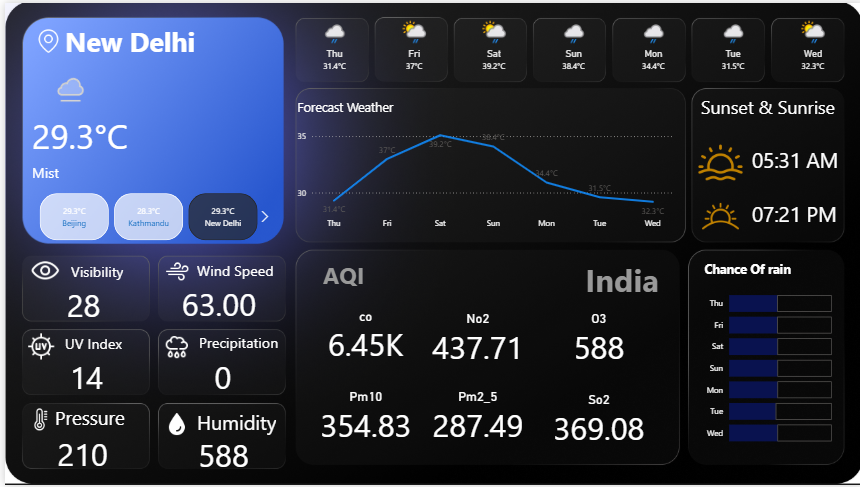

Layout of this report page (visuals, bound fields, positions):
{"tool":"powerbi","page":{"name":"Page 1","canvas":[1280,720],"ordinal":0},"visuals":[{"type":"advancedSlicerVisual","fields":{"Values":["location.location.name"]},"box":[26.9,278.8,376.3,80.6],"z":0},{"type":"shape","box":[40.3,162.9,376.3,149.5],"z":1000},{"type":"shape","box":[40.3,238.5,188.1,73.9],"z":2000},{"type":"shape","box":[89.6,30.4,237.1,54.9],"z":3000},{"type":"image","box":[23.1,34.7,85.3,44.8],"z":4000},{"type":"cardVisual","fields":{"Data":["Min(Current.current.condition.icon)"]},"box":[26.9,55.4,124.3,144.5],"z":5000},{"type":"image","box":[0,370.4,120.7,57.9],"z":6000},{"type":"shape","box":[98.3,386,188,73.7],"z":7000},{"type":"image","box":[208.4,377.1,95.9,46.3],"z":8000},{"type":"shape","box":[286.1,385.3,188.5,74.4],"z":9000},{"type":"image","box":[0,487.2,108.4,52],"z":10000},{"type":"shape","box":[89.6,494.5,188,36.1],"z":11000},{"type":"image","box":[208.4,487.9,95.9,51.3],"z":12000},{"type":"shape","box":[289.2,493,180.7,40.5],"z":13000},{"type":"image","box":[8.3,600.3,89.3,43],"z":14000},{"type":"shape","box":[74.4,600.3,188.5,41.3],"z":15000},{"type":"image","box":[200.1,605.3,112.5,44.7],"z":16000},{"type":"shape","box":[286.1,605.3,188.5,74.4],"z":17000},{"type":"card","fields":{"Values":["Sum(Current.current.humidity)"]},"box":[249.7,640,153.8,64.5],"z":18000},{"type":"card","fields":{"Values":["Sum(Current.current.vis_km)"]},"box":[39.7,416.7,153.8,64.5],"z":19000},{"type":"card","fields":{"Values":["Sum(Current.current.wind_kph)"]},"box":[236.5,416.7,167,62.8],"z":20000},{"type":"card","fields":{"Values":["Sum(Current.current.uv)"]},"box":[39.6,526.9,163,60.1],"z":21000},{"type":"card","fields":{"Values":["Sum(Current.current.precip_mm)"]},"box":[243.1,527.5,163.7,59.5],"z":22000},{"type":"card","fields":{"Values":["Sum(Current.current.pressure_in)"]},"box":[34.8,642.4,163,60.1],"z":23000},{"type":"advancedSlicerVisual","fields":{"Values":["Forcast-day.day_name"]},"box":[430.8,14.5,837.1,104.1],"z":24000},{"type":"lineChart","title":"Forecast Weather","fields":{"Y":["Sum(Forcast-day.forecast.forecastday.day.avgtemp_c)"],"Category":["Forcast-day.day_name"]},"box":[431.6,143.9,572.2,203.4],"z":25000},{"type":"shape","box":[1038.6,137.3,211.7,62.8],"z":26000},{"type":"image","box":[1008.8,276.2,117.4,84.3],"z":27000},{"type":"image","box":[1020.4,200.1,94.3,76.1],"z":28000},{"type":"shape","box":[1114.6,213.3,135.6,66.1],"z":29000},{"type":"shape","box":[1114.6,294.4,135.6,66.1],"z":30000},{"type":"hundredPercentStackedBarChart","title":"Chance Of rain","fields":{"Y":["Sum(Forcast-day.forecast.forecastday.day.daily_chance_of_rain)","Table.left_rain"],"Category":["Forcast-day.day_name"]},"box":[1038.6,385.3,200.1,287.8],"z":31000},{"type":"card","title":"co","fields":{"Values":["Sum(Current.current.air_quality.co)"]},"box":[455.4,456.9,166.3,81],"z":32000},{"type":"card","title":"No2","fields":{"Values":["Sum(Current.current.air_quality.no2)"]},"box":[621.8,459.7,167,82.7],"z":33000},{"type":"card","title":"O3","fields":{"Values":["Sum(Current.current.air_quality.o3)"]},"box":[803.7,459.7,167,82.7],"z":34000},{"type":"card","title":"Pm10","fields":{"Values":["Sum(Current.current.air_quality.pm10)"]},"box":[454.8,575.5,167,82.7],"z":35000},{"type":"card","title":"Pm2_5","fields":{"Values":["Sum(Current.current.air_quality.pm2_5)"]},"box":[621.8,575.5,167,82.7],"z":36000},{"type":"card","title":"So2","fields":{"Values":["Sum(Current.current.air_quality.so2)"]},"box":[803.7,580.5,167,82.7],"z":37000},{"type":"card","title":"co","fields":{"Values":["Min(Current.location.country)"]},"box":[837.1,377.3,167.7,68],"z":38000},{"type":"shape","title":"AQI","box":[474.2,381.7,216.9,46.3],"z":39000}]}

Visuals, with their boxes in screenshot pixels (x1, y1, x2, y2), scaled from the page's 1280x720 canvas onto the 860x487 screenshot:
advancedSlicerVisual - location.location.name: [left=18, top=189, right=271, bottom=243]
shape: [left=27, top=110, right=280, bottom=211]
shape: [left=27, top=161, right=153, bottom=211]
shape: [left=60, top=21, right=220, bottom=58]
image: [left=16, top=23, right=73, bottom=54]
cardVisual - Min(Current.current.condition.icon): [left=18, top=37, right=102, bottom=135]
image: [left=0, top=251, right=81, bottom=290]
shape: [left=66, top=261, right=192, bottom=311]
image: [left=140, top=255, right=204, bottom=286]
shape: [left=192, top=261, right=319, bottom=311]
image: [left=0, top=330, right=73, bottom=365]
shape: [left=60, top=334, right=187, bottom=359]
image: [left=140, top=330, right=204, bottom=365]
shape: [left=194, top=333, right=316, bottom=361]
image: [left=6, top=406, right=66, bottom=435]
shape: [left=50, top=406, right=177, bottom=434]
image: [left=134, top=409, right=210, bottom=440]
shape: [left=192, top=409, right=319, bottom=460]
card - Sum(Current.current.humidity): [left=168, top=433, right=271, bottom=477]
card - Sum(Current.current.vis_km): [left=27, top=282, right=130, bottom=325]
card - Sum(Current.current.wind_kph): [left=159, top=282, right=271, bottom=324]
card - Sum(Current.current.uv): [left=27, top=356, right=136, bottom=397]
card - Sum(Current.current.precip_mm): [left=163, top=357, right=273, bottom=397]
card - Sum(Current.current.pressure_in): [left=23, top=435, right=133, bottom=475]
advancedSlicerVisual - Forcast-day.day_name: [left=289, top=10, right=852, bottom=80]
"Forecast Weather" lineChart: [left=290, top=97, right=674, bottom=235]
shape: [left=698, top=93, right=840, bottom=135]
image: [left=678, top=187, right=757, bottom=244]
image: [left=686, top=135, right=749, bottom=187]
shape: [left=749, top=144, right=840, bottom=189]
shape: [left=749, top=199, right=840, bottom=244]
"Chance Of rain" hundredPercentStackedBarChart: [left=698, top=261, right=832, bottom=455]
"co" card: [left=306, top=309, right=418, bottom=364]
"No2" card: [left=418, top=311, right=530, bottom=367]
"O3" card: [left=540, top=311, right=652, bottom=367]
"Pm10" card: [left=306, top=389, right=418, bottom=445]
"Pm2_5" card: [left=418, top=389, right=530, bottom=445]
"So2" card: [left=540, top=393, right=652, bottom=449]
"co" card: [left=562, top=255, right=675, bottom=301]
"AQI" shape: [left=319, top=258, right=464, bottom=289]
